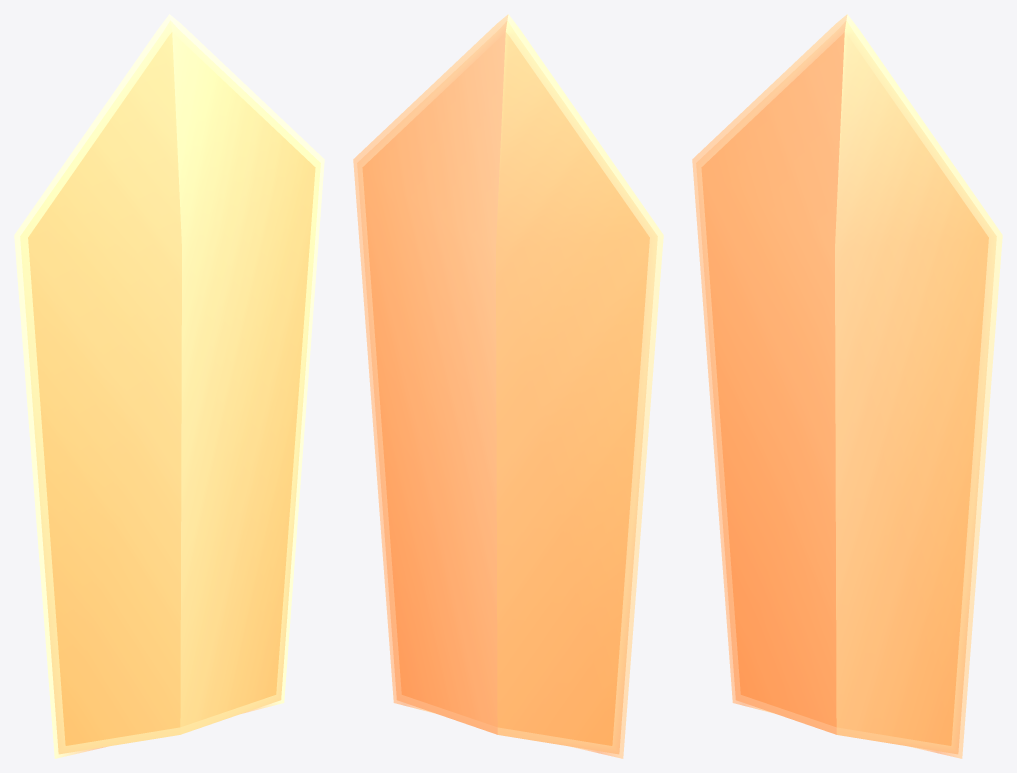
File: wood_blade (1).glb
3 views of the same model, side by side, from view 1: azimuth 30°, elevation 25°; view 2: azimuth 150°, elevation 25°; view 3: azimuth 330°, elevation 25° (orthographic).
Visible parts, largest first — view 1: wood_blade_steel.064; view 2: wood_blade_steel.064; view 3: wood_blade_steel.064.
Boxes of the visible parts, left/top/right/bottom form: wood_blade_steel.064: left=14, top=14, right=324, bottom=758; wood_blade_steel.064: left=353, top=14, right=663, bottom=758; wood_blade_steel.064: left=692, top=14, right=1002, bottom=758.
Bounding box in the file's own units: 5.17 × 11.43 × 0.7262.
1 material, 1 textured.
